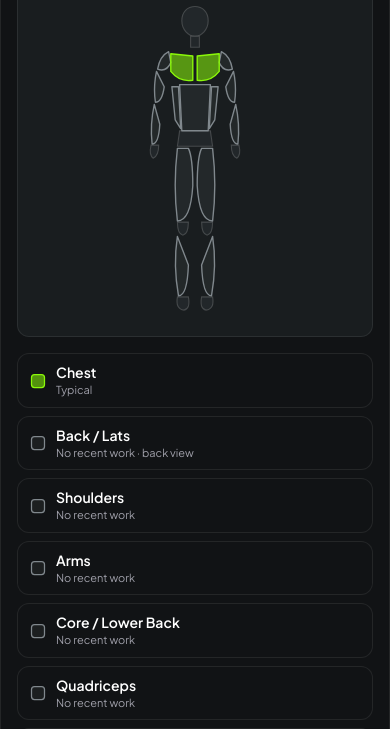
Test case: states on the dashboard › sessions restored from a backup file (db.importBackupJSON), including a date-only one, are handled
(page scrolled)
Click the button "Chest Typical" at [76, 372], box [17,353,373,408]
(page scrolled)
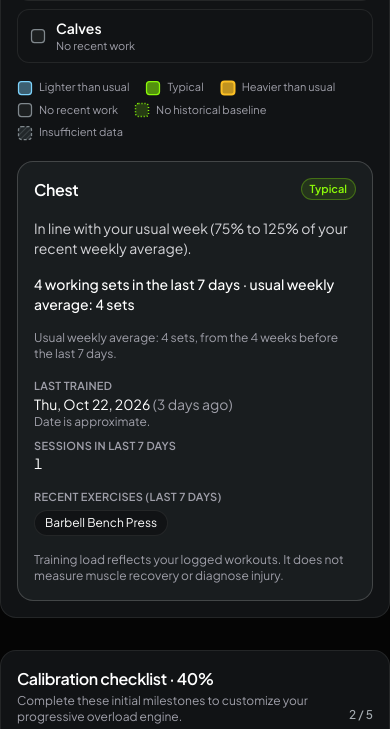
Expected: the element with test id "muscle-detail-panel" shows "4 working sets in the last 7 days", [34,275,334,313]
Expected: the element with test id "muscle-detail-panel" shows "Date is approximate.", [34,414,150,429]
